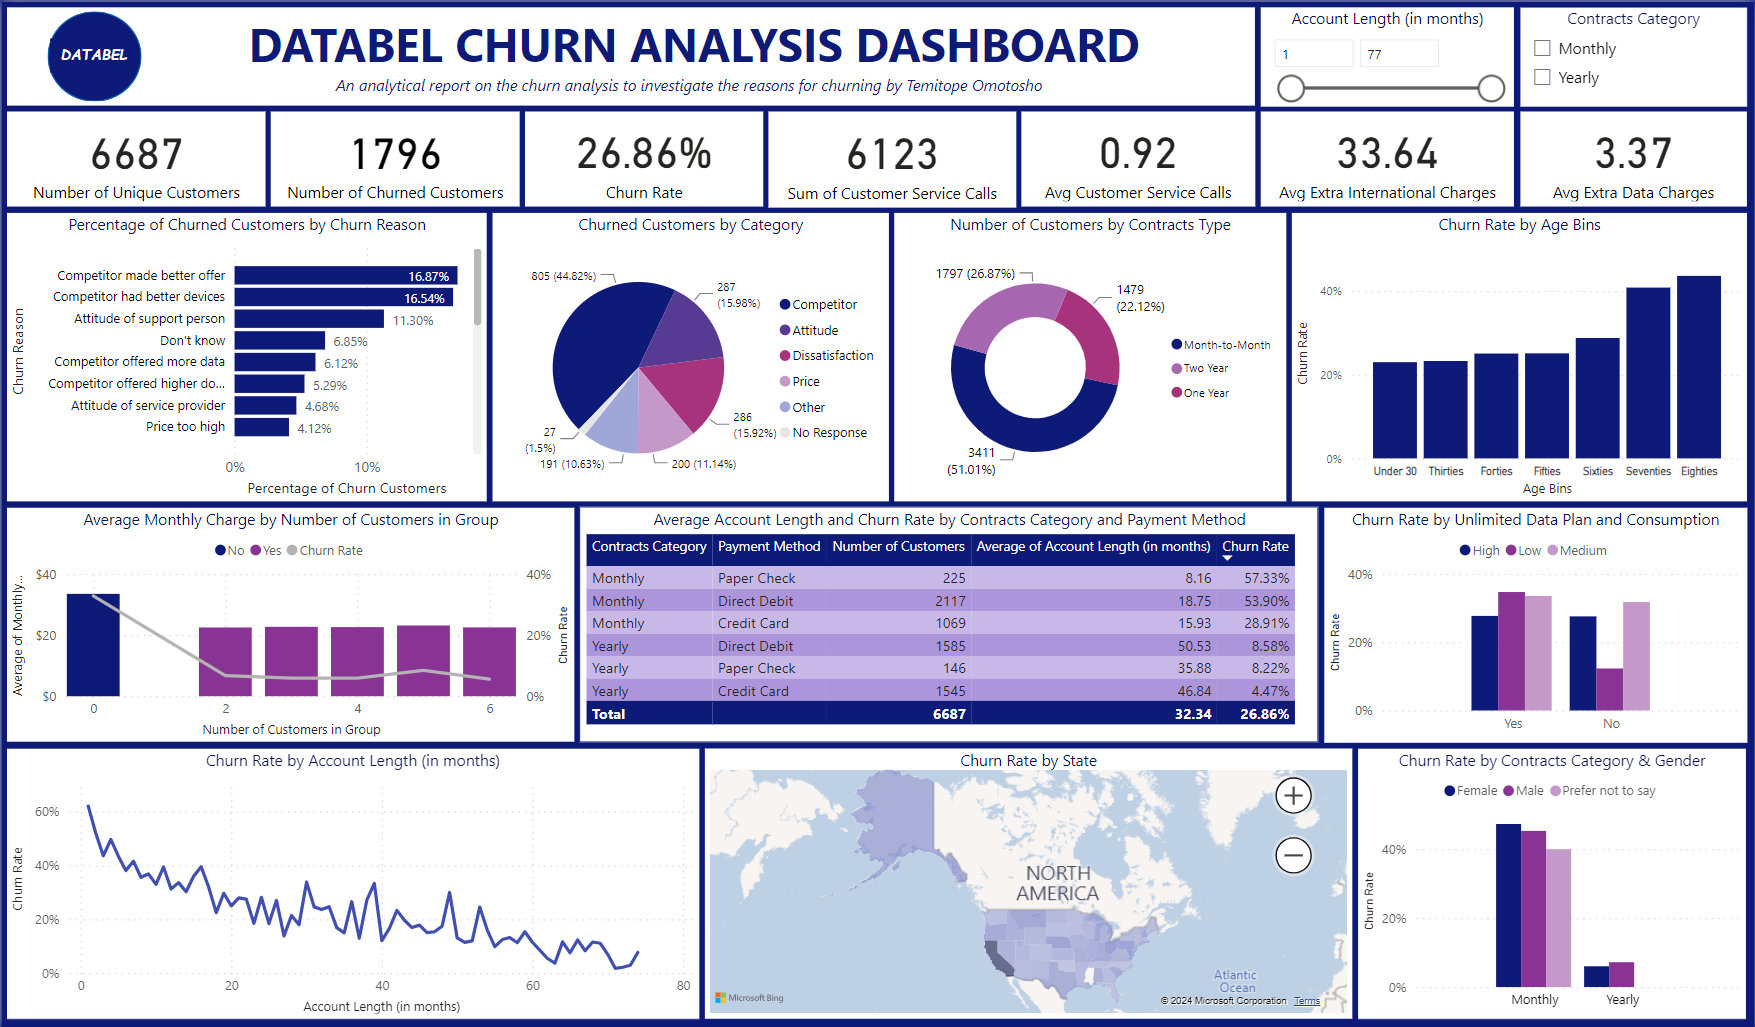

The dashboard page shown, as its layout file describes it:
{"tool":"powerbi","page":{"name":"Databel Churn Analysis","canvas":[1640,960],"ordinal":0},"visuals":[{"type":"card","fields":{"Values":["Databel - Data.Number of Unique Customers"]},"box":[4.7,102.6,242.1,89.5],"z":0},{"type":"card","fields":{"Values":["Databel - Data.Number of Churned Customers"]},"box":[252.1,102.6,232.9,89.5],"z":1000},{"type":"card","fields":{"Values":["Databel - Data.Churn Rate"]},"box":[490.4,102.9,223.2,89.1],"z":2000},{"type":"clusteredBarChart","title":"Percentage of Churned Customers by Churn Reason","fields":{"Category":["Databel - Data.Churn Reason"],"Y":["Databel - Data.Number of Churned Customers"]},"box":[4.5,197,449.3,270.1],"z":3000},{"type":"pieChart","title":"Churned Customers by Category","fields":{"Y":["Sum(Databel - Data.Churned)"],"Category":["Databel - Data.Churn_Category"]},"box":[459.2,197.4,371.1,269.7],"z":4000},{"type":"donutChart","title":"Number of Customers by Contracts Type","fields":{"Category":["Databel - Data.Contract Type"],"Y":["Databel - Data.Number of Customers"]},"box":[835.5,197.4,367.1,269.7],"z":5000},{"type":"filledMap","title":"Churn Rate by State","fields":{"Category":["Databel - Data.State"]},"box":[658.1,698.6,606.1,253.3],"z":6000},{"type":"textbox","box":[5.8,4.5,1167,92.5],"z":7000},{"type":"card","fields":{"Values":["Databel - Data.Avg Customer Service Calls"]},"box":[954.2,102.9,218.6,89.1],"z":8000},{"type":"card","fields":{"Values":["Sum(Databel - Data.Customer Service Calls)"]},"box":[717.7,102.5,231.6,89.9],"z":9000},{"type":"card","fields":{"Values":["Databel - Data.Avg Extra Data Charges"]},"box":[1421.5,102.9,211.7,89.1],"z":10000},{"type":"card","fields":{"Values":["Databel - Data.Avg Extra International Charges"]},"box":[1178.6,102.9,237.1,89.1],"z":11000},{"type":"slicer","title":"Account Length (in months)","fields":{"Values":["Databel - Data.Account Length (in months)"]},"box":[1178.6,4.6,237.1,92.5],"z":12000},{"type":"slicer","title":"Contracts Category","fields":{"Values":["Databel - Data.Contracts Category"]},"box":[1421.5,4.6,211.7,92.5],"z":13000},{"type":"shape","box":[43,9.3,87.9,84.4],"z":14000},{"type":"textbox","box":[45.7,34.6,81.5,32.1],"z":15000},{"type":"lineClusteredColumnComboChart","title":"Churn Rate by Age Bins","fields":{"Category":["Databel - Data.Age Bins"],"Y":["Databel - Data.Churn Rate"]},"box":[1207.9,197.4,426.3,269.7],"z":16000},{"type":"lineStackedColumnComboChart","title":"Average Monthly Charge by Number of Customers in Group","fields":{"Category":["Databel - Data.Number of Customers in Group"],"Y":["Avg(Databel - Data.Monthly Charge)"],"Series":["Databel - Data.Group"],"Y2":["Databel - Data.Churn Rate"]},"box":[4.5,473.1,531.3,219.4],"z":17000},{"type":"clusteredColumnChart","title":"Churn Rate by Unlimited Data Plan and Consumption","fields":{"Category":["Databel - Data.Unlimited Data Plan"],"Y":["Databel - Data.Churn Rate"],"Series":["Databel - Data.Grouped Consumption"]},"box":[1237.6,473.1,395.6,219.8],"z":18000},{"type":"clusteredColumnChart","title":"Churn Rate by Contracts Category & Gender","fields":{"Category":["Databel - Data.Contracts Category"],"Series":["Databel - Data.Gender"],"Y":["Databel - Data.Churn Rate"]},"box":[1270,698.6,363.2,253.3],"z":19000},{"type":"lineChart","fields":{"Y":["Databel - Data.Churn Rate"],"Category":["Databel - Data.Account Length (in months)"]},"box":[4.6,698.6,647.7,253.3],"z":20000},{"type":"tableEx","title":"Average Account Length and Churn Rate by Contracts Category and Payment Method","fields":{"Values":["Databel - Data.Contracts Category","Databel - Data.Payment Method","Databel - Data.Number of Customers","Avg(Databel - Data.Account Length (in months))","Databel - Data.Churn Rate"]},"box":[540.1,471.9,691.7,220.9],"z":21000}]}

Visuals, with their boxes in screenshot pixels (x1, y1, x2, y2), scaled from the page's 1640x960 canvas onto the 1755x1027 screenshot:
card - Databel - Data.Number of Unique Customers: left=5, top=110, right=264, bottom=206
card - Databel - Data.Number of Churned Customers: left=270, top=110, right=519, bottom=206
card - Databel - Data.Churn Rate: left=525, top=110, right=764, bottom=205
"Percentage of Churned Customers by Churn Reason" clusteredBarChart: left=5, top=211, right=486, bottom=500
"Churned Customers by Category" pieChart: left=491, top=211, right=889, bottom=500
"Number of Customers by Contracts Type" donutChart: left=894, top=211, right=1287, bottom=500
"Churn Rate by State" filledMap: left=704, top=747, right=1353, bottom=1018
textbox: left=6, top=5, right=1255, bottom=104
card - Databel - Data.Avg Customer Service Calls: left=1021, top=110, right=1255, bottom=205
card - Sum(Databel - Data.Customer Service Calls): left=768, top=110, right=1016, bottom=206
card - Databel - Data.Avg Extra Data Charges: left=1521, top=110, right=1748, bottom=205
card - Databel - Data.Avg Extra International Charges: left=1261, top=110, right=1515, bottom=205
"Account Length (in months)" slicer: left=1261, top=5, right=1515, bottom=104
"Contracts Category" slicer: left=1521, top=5, right=1748, bottom=104
shape: left=46, top=10, right=140, bottom=100
textbox: left=49, top=37, right=136, bottom=71
"Churn Rate by Age Bins" lineClusteredColumnComboChart: left=1293, top=211, right=1749, bottom=500
"Average Monthly Charge by Number of Customers in Group" lineStackedColumnComboChart: left=5, top=506, right=573, bottom=741
"Churn Rate by Unlimited Data Plan and Consumption" clusteredColumnChart: left=1324, top=506, right=1748, bottom=741
"Churn Rate by Contracts Category & Gender" clusteredColumnChart: left=1359, top=747, right=1748, bottom=1018
lineChart - Databel - Data.Churn Rate x Databel - Data.Account Length (in months): left=5, top=747, right=698, bottom=1018
"Average Account Length and Churn Rate by Contracts Category and Payment Method" tableEx: left=578, top=505, right=1318, bottom=741
